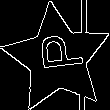P_W: (30, 37, 84, 80)
